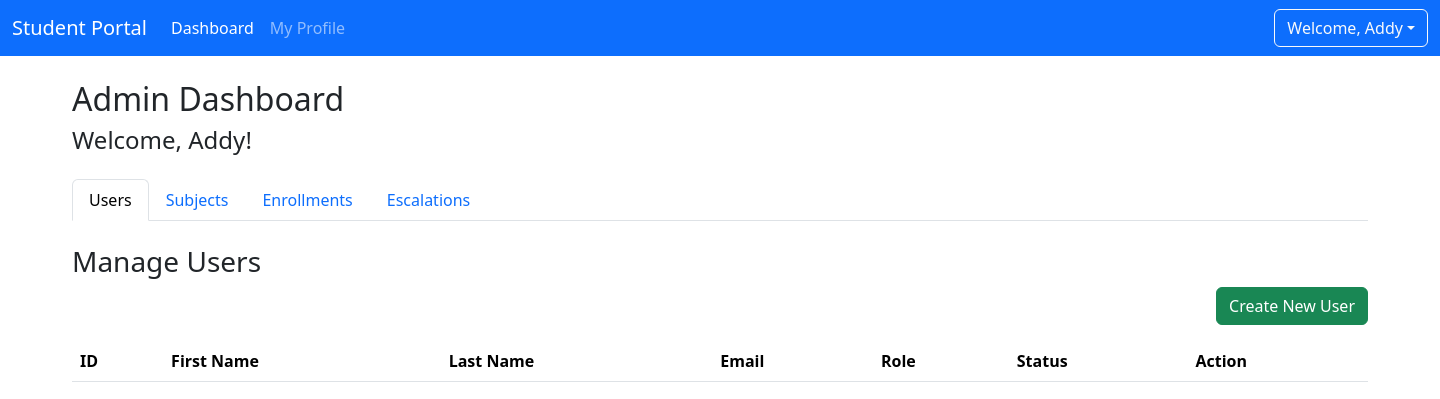
Test: AdminDashboardPage — server-side pagination (26.7) › Subjects tab › hides pagination on subjects tab when totalCount is 0
Expected: the heading "Manage Users" is shown, [72,242,261,280]
What coordinates should you click on to do the following:
click the button "Subjects"
I would click on:
 (197, 200)
Its box is [149,179,246,221].
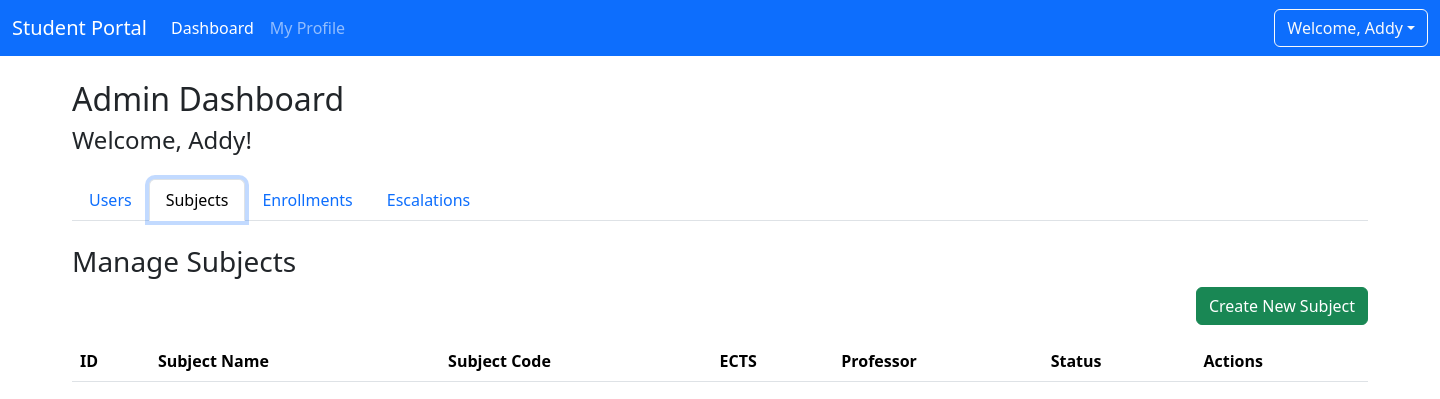
Expected: the heading "Manage Subjects" is shown, [72,242,296,280]
